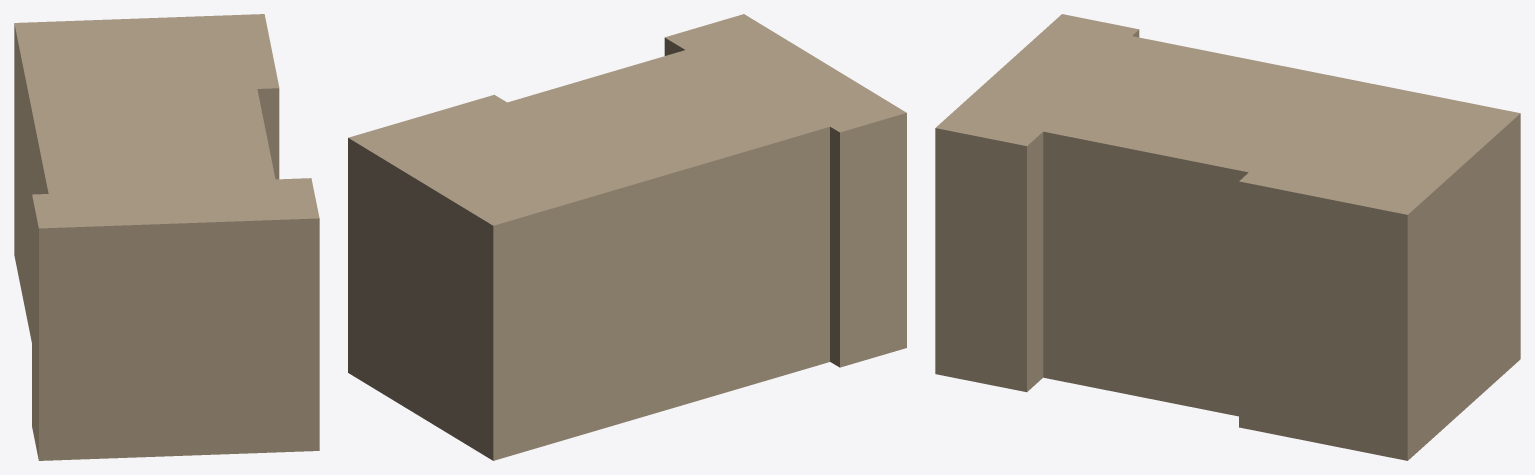
Rendered from bld_99531894.dae.
3 renders of one model, left to right at view 1: azimuth 30°, elevation 25°; view 2: azimuth 150°, elevation 25°; view 3: azimuth 270°, elevation 25°, orthographic. The views are drawn at different scales.
Parts seen in each view (by area): view 1: bld_99531894; view 2: bld_99531894; view 3: bld_99531894.
Part boxes in pixels (<box>): bld_99531894: <box>14,14,319,460</box>; bld_99531894: <box>348,14,906,460</box>; bld_99531894: <box>935,14,1520,460</box>.
Size of the model in its own units: 21.02 by 25.87 by 12.
